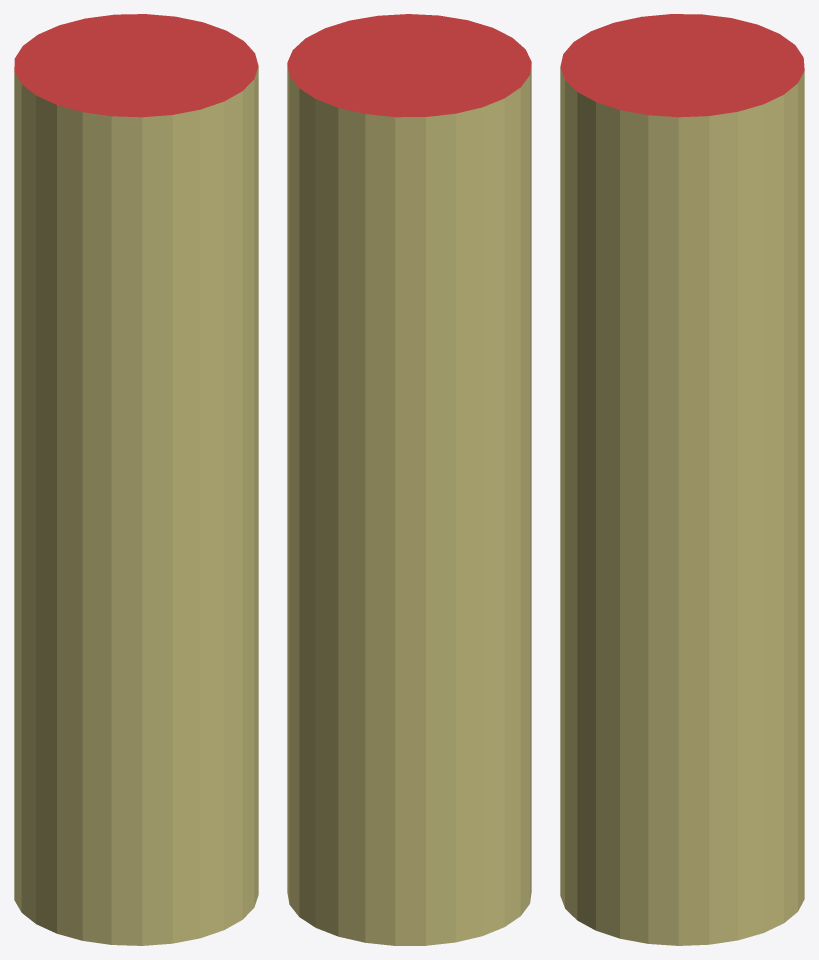
The picture shows the model from 3 angles, left to right: view 1: azimuth 30°, elevation 25°; view 2: azimuth 150°, elevation 25°; view 3: azimuth 270°, elevation 25°; orthographic projection.
Size of the model in its own units: 2.78 by 2.78 by 10.39.
